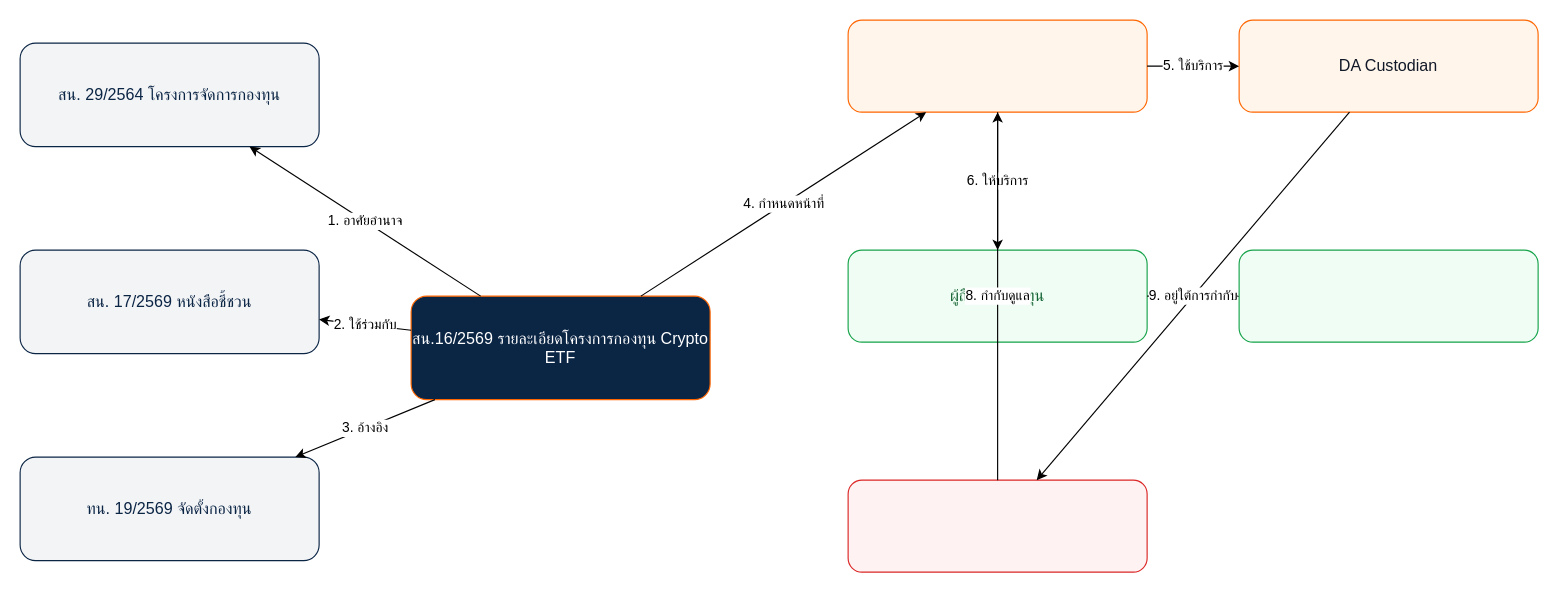
Image size: 1558x592. Some labels were removed from this diagram. The shapes that lost their labels are listed below. From the top down, each one's box as (x1, y1, x2, y2) in pixels, then its label:
(847, 19, 1147, 112): บลจ.
(1238, 249, 1538, 342): ผู้สนใจลงทุน
(847, 479, 1147, 572): ก.ล.ต.
